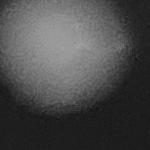colony: (0, 0, 141, 121)
